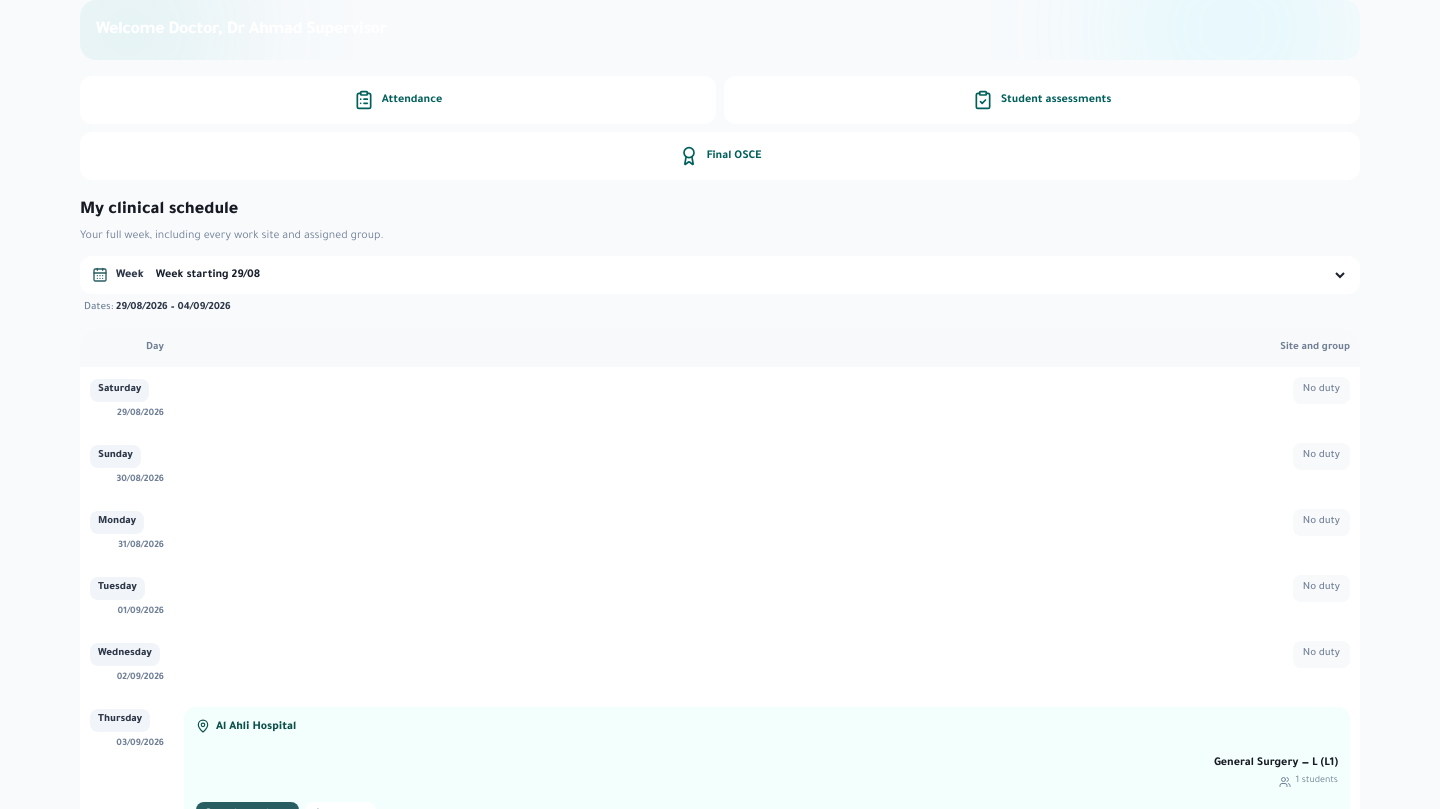
clinical supervisor workspace › shows the full main group once per university lecture in the assigned day
The image size is (1440, 809).
Select "Week starting 22/08" in the dropdown named "Choose week" at [750, 275], box [152,264,1348,286]
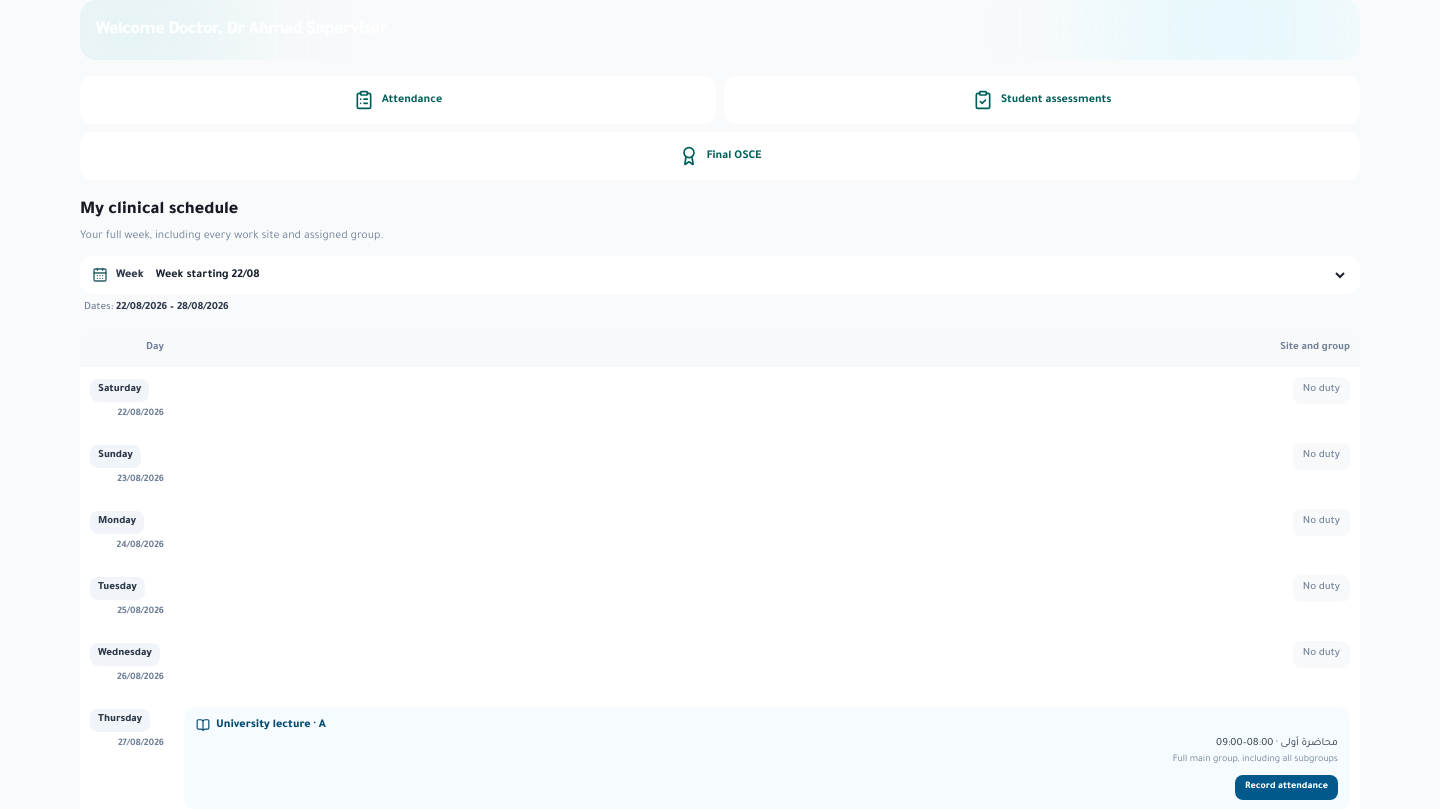
Result: the text "Full main group, including all subgroups" is shown 2 times
